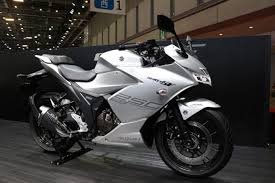motor: (28, 43, 236, 178)
